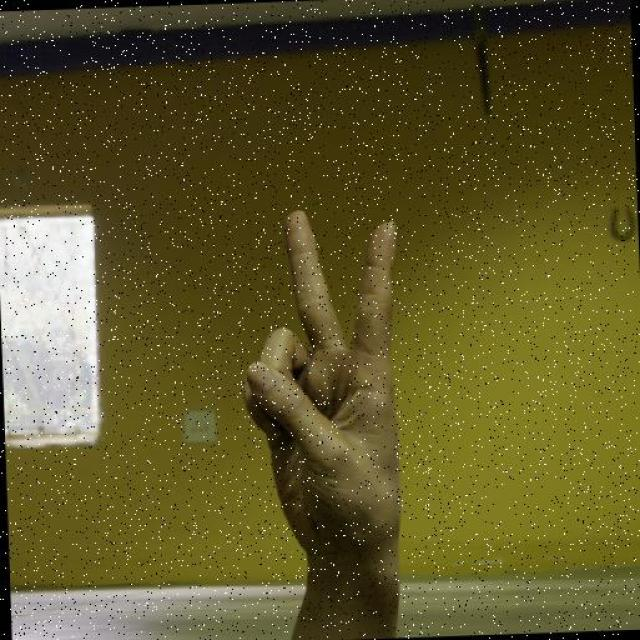V: (232, 204, 410, 560)
